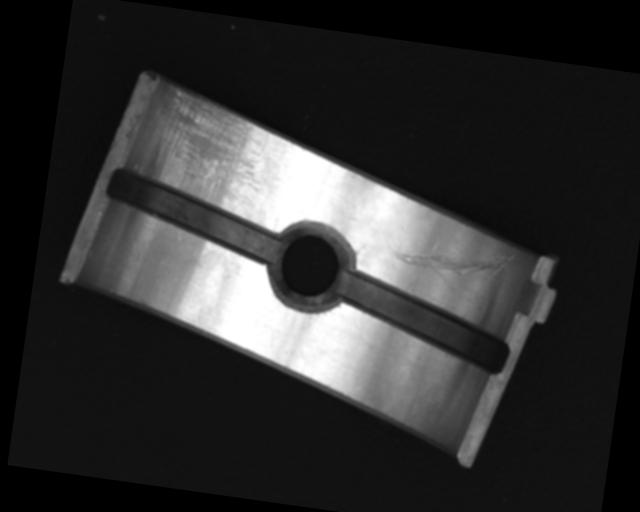gap: (329, 266, 517, 375), (98, 166, 290, 262)
hole: (265, 219, 356, 314)
nick: (388, 234, 518, 301)
scratch: (142, 79, 272, 208)
